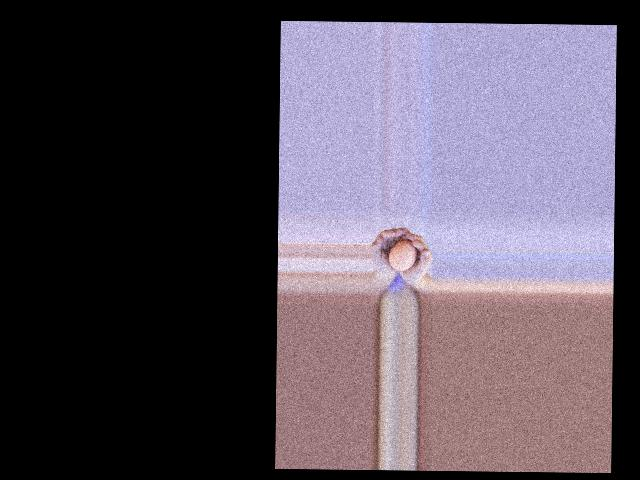egg: (387, 240, 416, 271)
